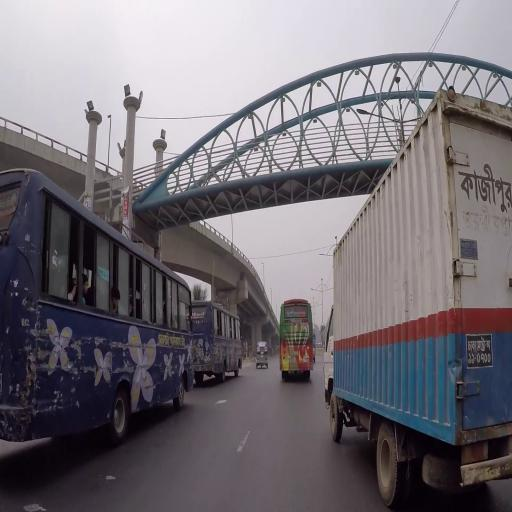bus: (1, 164, 196, 445), (193, 298, 245, 382), (280, 298, 315, 383)
pickup: (328, 85, 511, 509)
three wheelers CNG: (256, 340, 269, 369)
